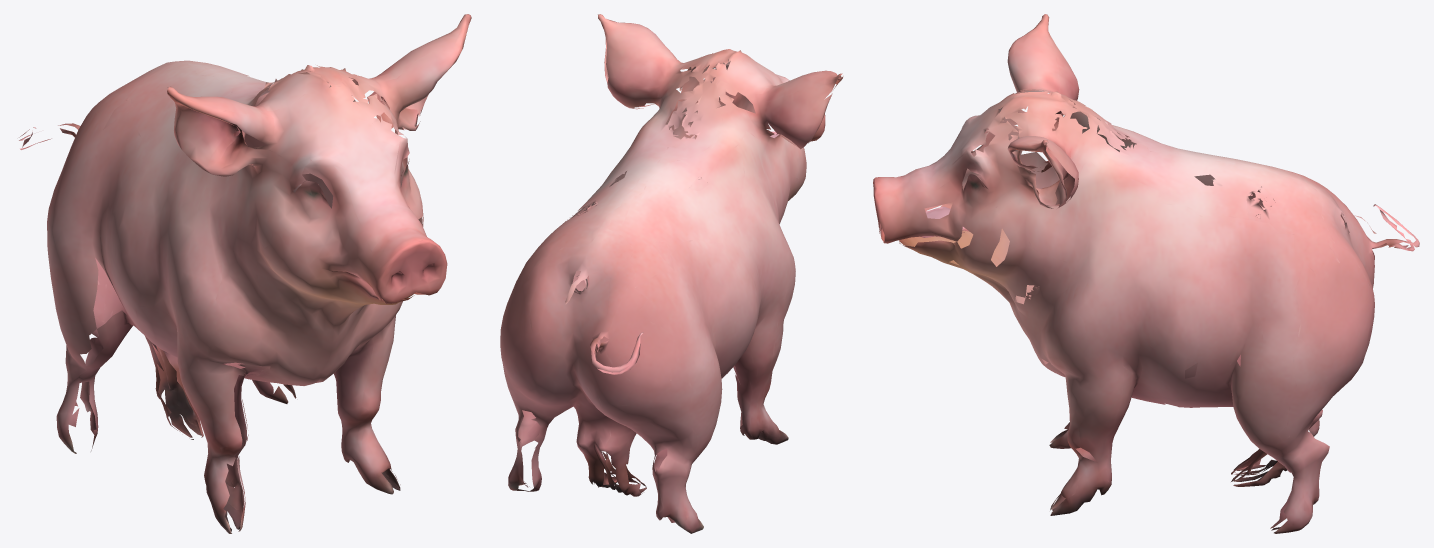
File: critter_pig.glb
The picture shows the model from 3 angles, left to right: view 1: azimuth 30°, elevation 25°; view 2: azimuth 150°, elevation 25°; view 3: azimuth 270°, elevation 25°; orthographic projection. The views are drawn at different scales.
Parts seen in each view (by area): view 1: world; view 2: world; view 3: world.
Boxes of the visible parts, <box> form: world: <box>19,14,471,533</box>; world: <box>500,14,843,533</box>; world: <box>873,14,1419,533</box>.
Bounding box in the file's own units: 0.5453 × 0.8106 × 0.979.
Materials: 1 (1 with a texture image).
